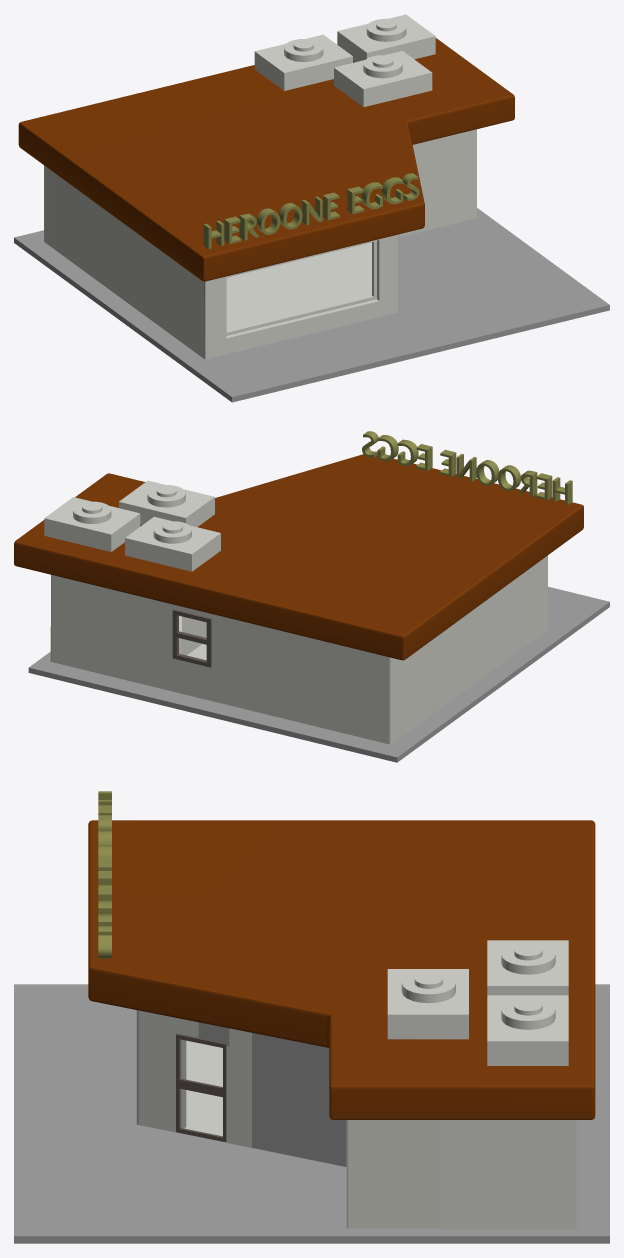
The model's file is Restaurantv2.fbx.
3 renders of one model, top to bottom at view 1: azimuth 30°, elevation 25°; view 2: azimuth 150°, elevation 25°; view 3: azimuth 270°, elevation 25°, orthographic. The views are drawn at different scales.
Parts seen in each view (by area): view 1: pCube3, pCube1, pCube37, typeMesh1, pCylinder5, pCylinder4, pCylinder3; view 2: pCube3, pCube37, pCube1, typeMesh1, pCylinder4, pCylinder3, pCylinder5, pCube18; view 3: pCube3, pCube1, pCube37, pCube25, pCylinder3, pCylinder5, pCylinder4, typeMesh1, pCube14, pCube29.
Part boxes in pixels (left/top/right/bottom): pCube3: left=18, top=38, right=514, bottom=281; pCube1: left=14, top=208, right=609, bottom=402; pCube37: left=44, top=129, right=476, bottom=359; typeMesh1: left=203, top=173, right=419, bottom=249; pCylinder5: left=334, top=51, right=432, bottom=107; pCylinder4: left=254, top=34, right=352, bottom=90; pCylinder3: left=337, top=14, right=435, bottom=62; pCube3: left=14, top=454, right=583, bottom=660; pCube37: left=50, top=555, right=547, bottom=744; pCube1: left=28, top=586, right=609, bottom=762; typeMesh1: left=362, top=431, right=572, bottom=505; pCylinder4: left=125, top=516, right=220, bottom=571; pCylinder3: left=44, top=497, right=140, bottom=551; pCylinder5: left=119, top=480, right=214, bottom=526; pCube18: left=172, top=609, right=211, bottom=667; pCube3: left=88, top=820, right=595, bottom=1119; pCube1: left=14, top=984, right=609, bottom=1243; pCube37: left=136, top=1010, right=578, bottom=1228; pCube25: left=227, top=1033, right=346, bottom=1166; pCylinder3: left=487, top=995, right=568, bottom=1065; pCylinder5: left=387, top=969, right=468, bottom=1039; pCylinder4: left=487, top=940, right=568, bottom=995; typeMesh1: left=98, top=791, right=111, bottom=958; pCube14: left=176, top=1034, right=226, bottom=1142; pCube29: left=179, top=1039, right=186, bottom=1128.
Bounding box in the file's own units: 23.36 × 8.75 × 22.
